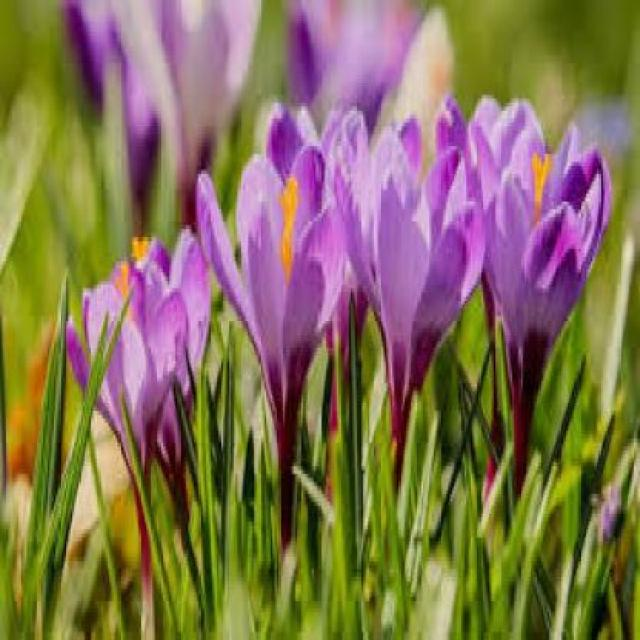saffron open: (199, 145, 344, 544), (485, 135, 610, 489), (372, 118, 484, 466)
